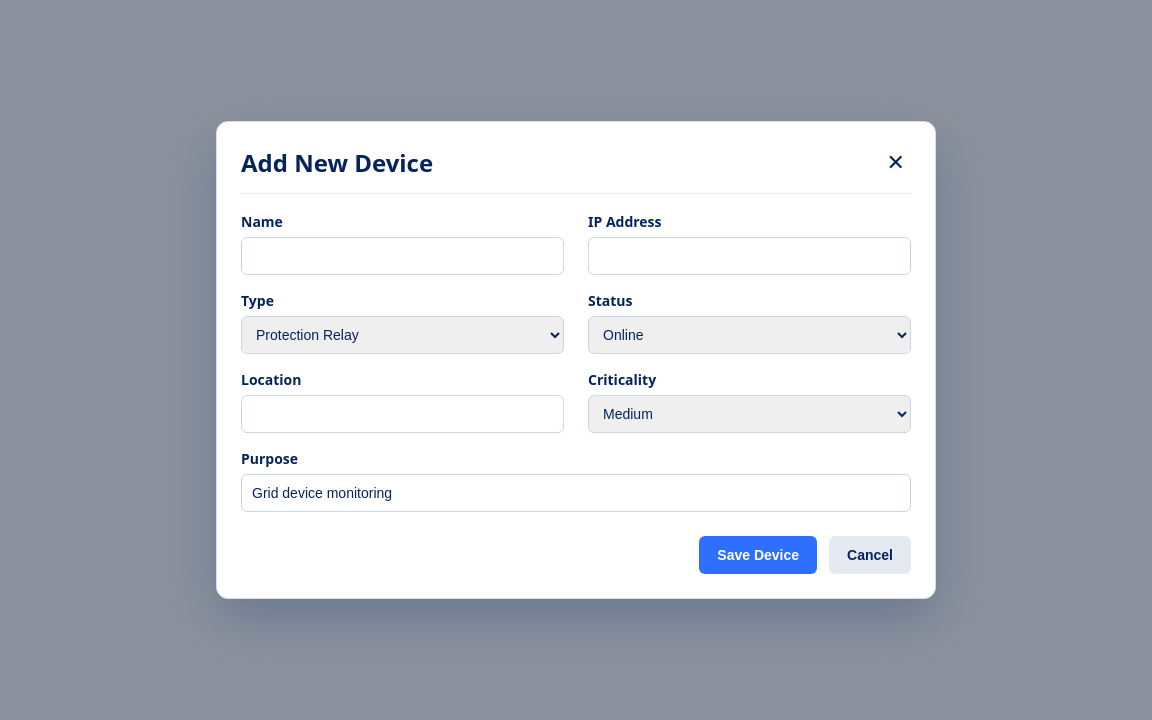
shows invalid IP error in add mode
The image size is (1152, 720).
In the field labelled "Name": {"x": 402, "y": 256} [241, 237, 564, 275], type "New Camera"
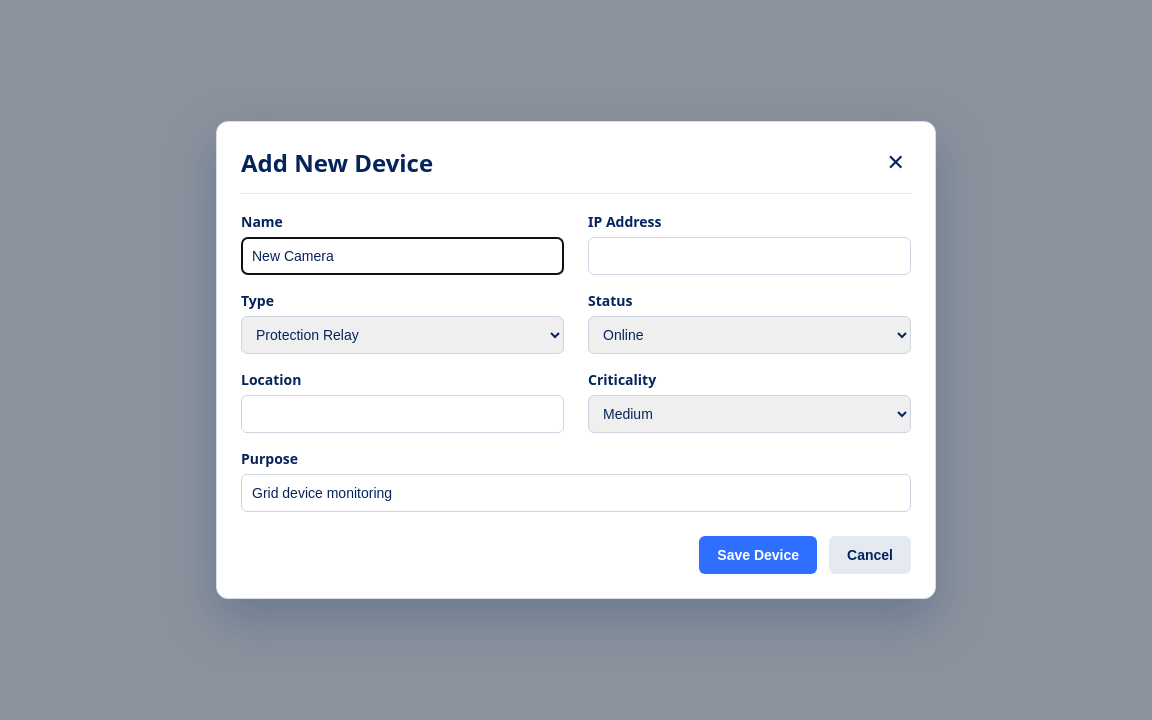
In the field labelled "IP Address": {"x": 750, "y": 256} [588, 237, 911, 275], type "bad-ip"
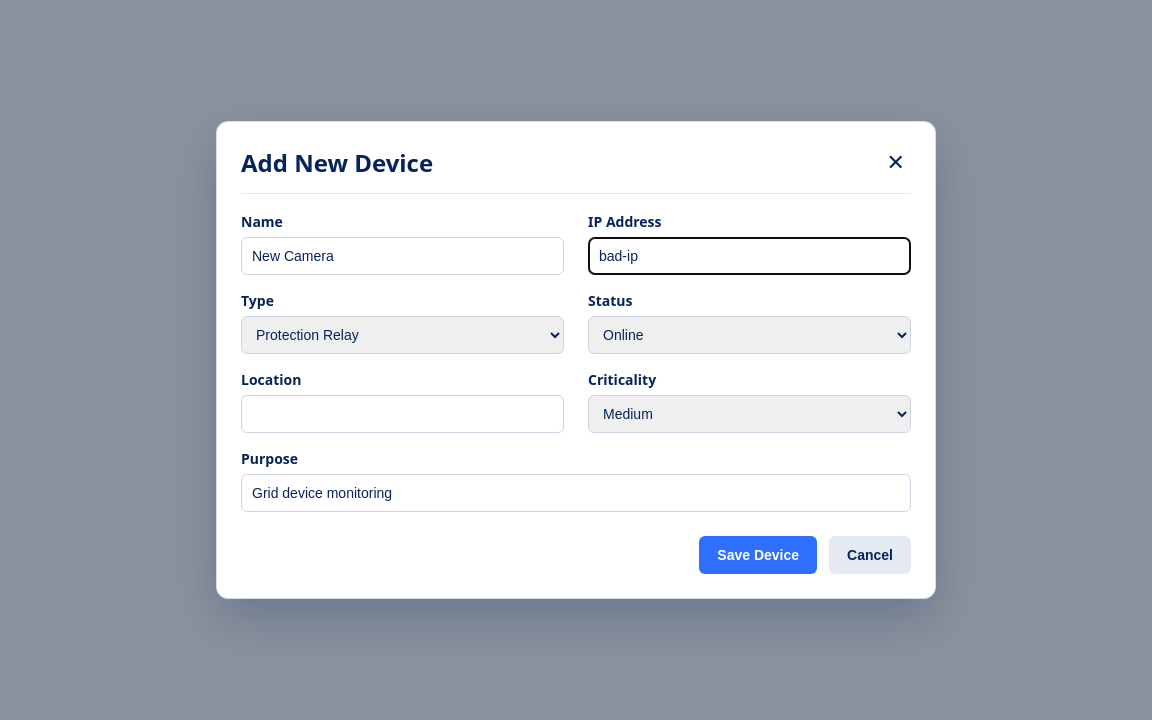
Click the button "Save Device": {"x": 758, "y": 555} [699, 536, 817, 574]
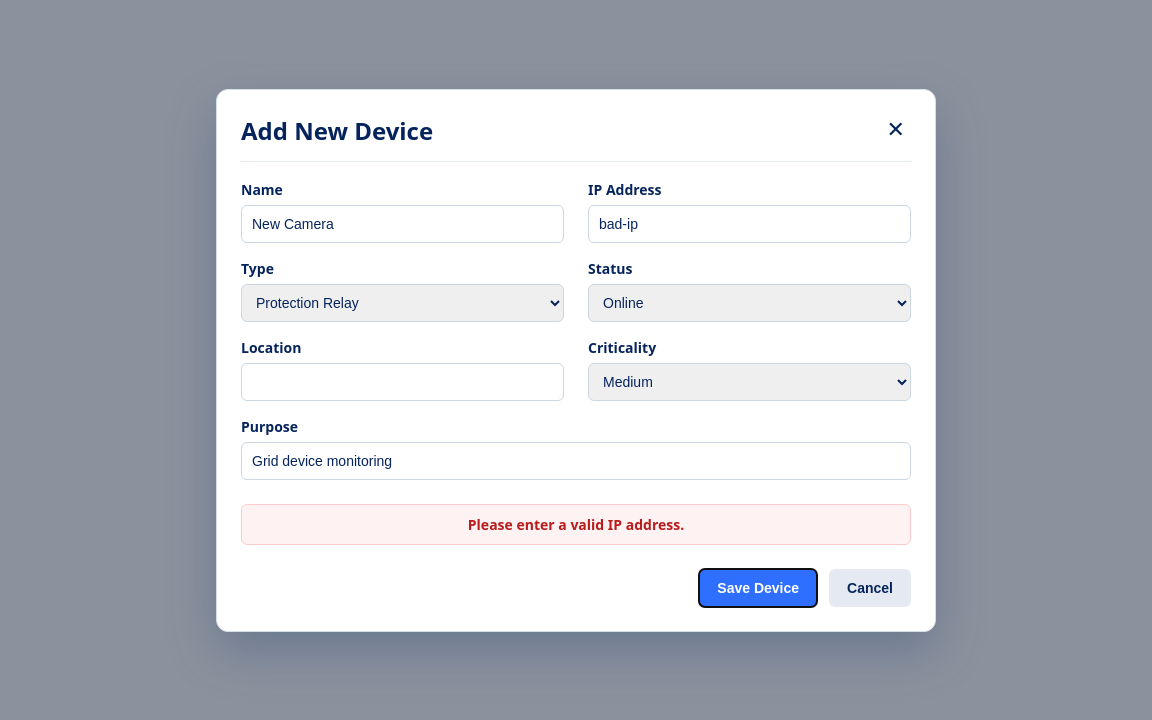
Now the text "Please enter a valid IP address." is shown, box [241, 504, 911, 544]
